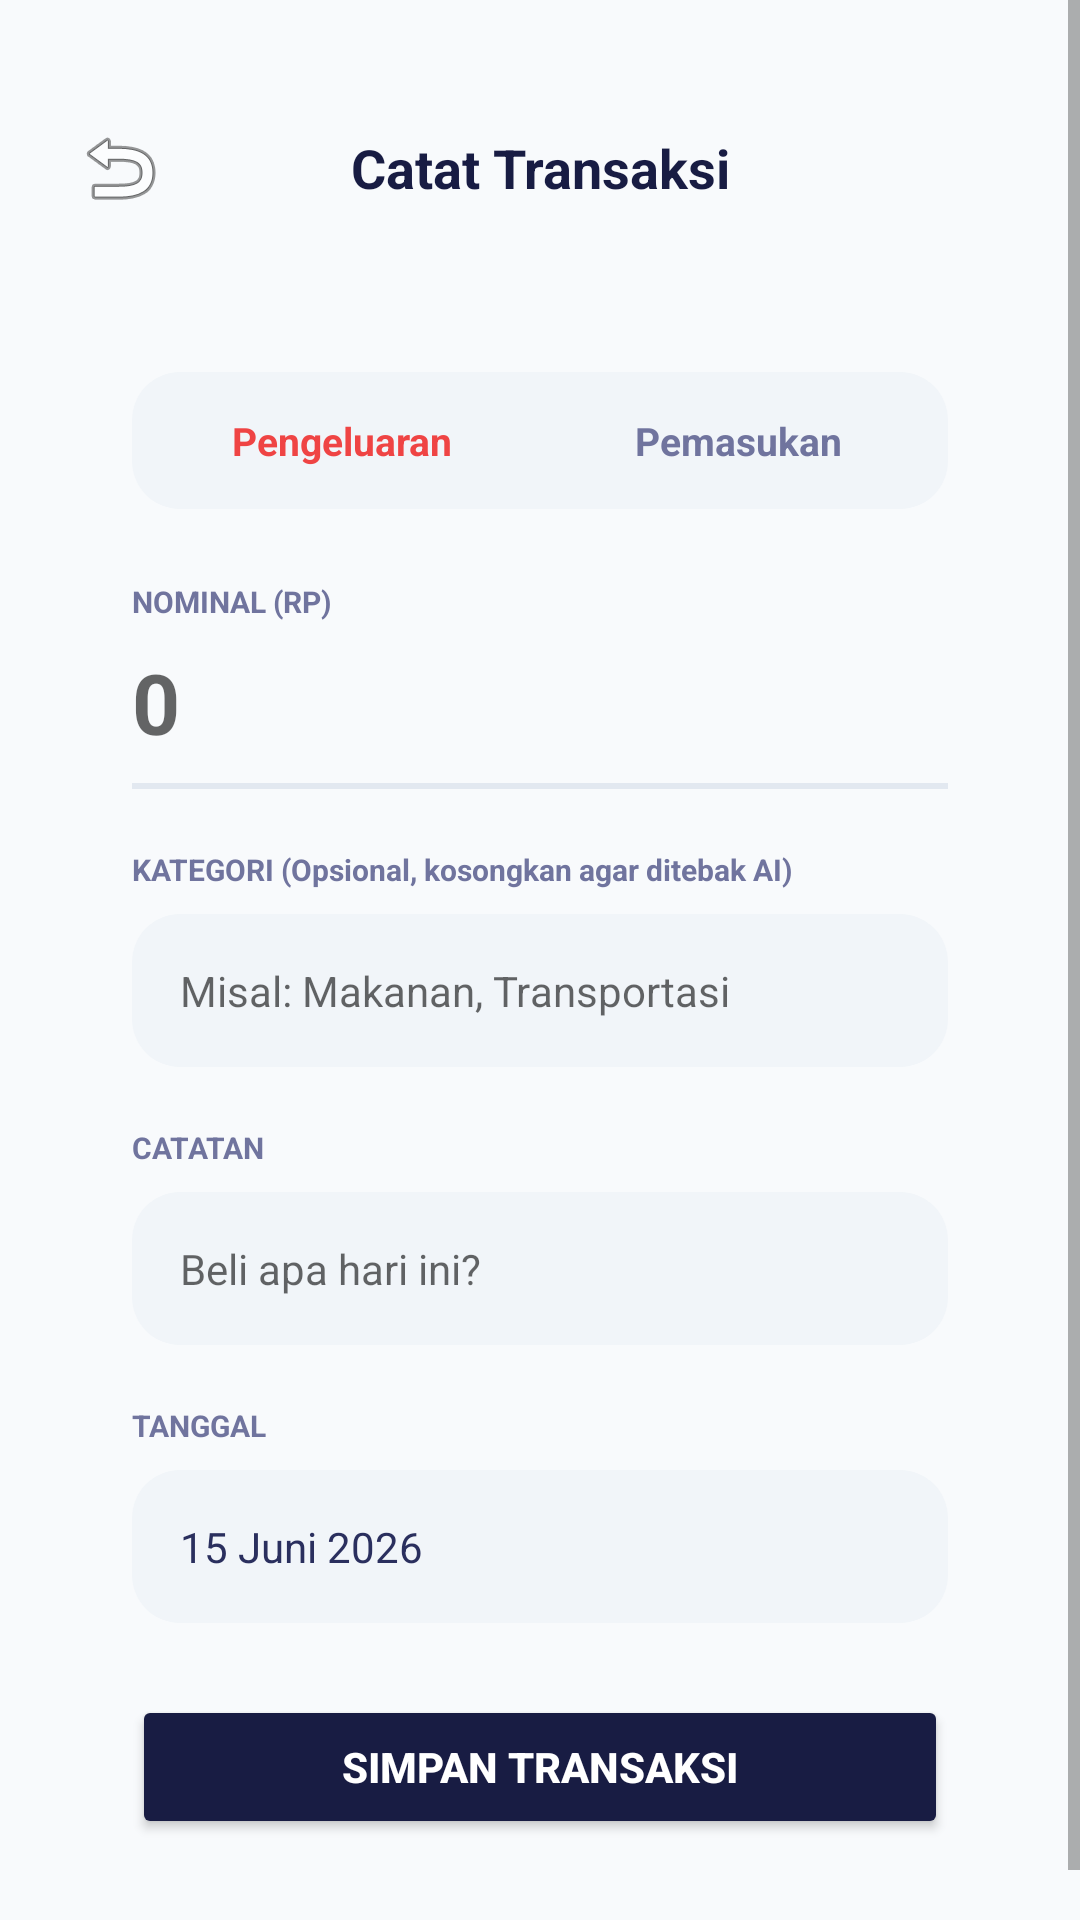

Where icons sit on this 1080 x 1920 app screen, as (x1, y1, x2, y2):
Back: (87, 137, 156, 200)
